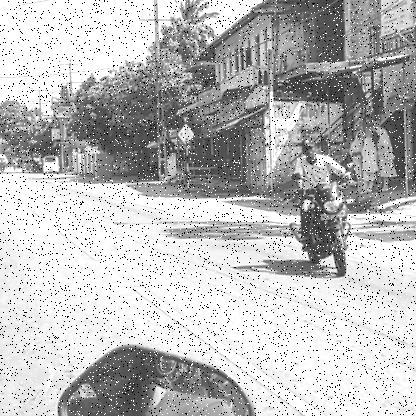motorcycle: (288, 180, 360, 280)
